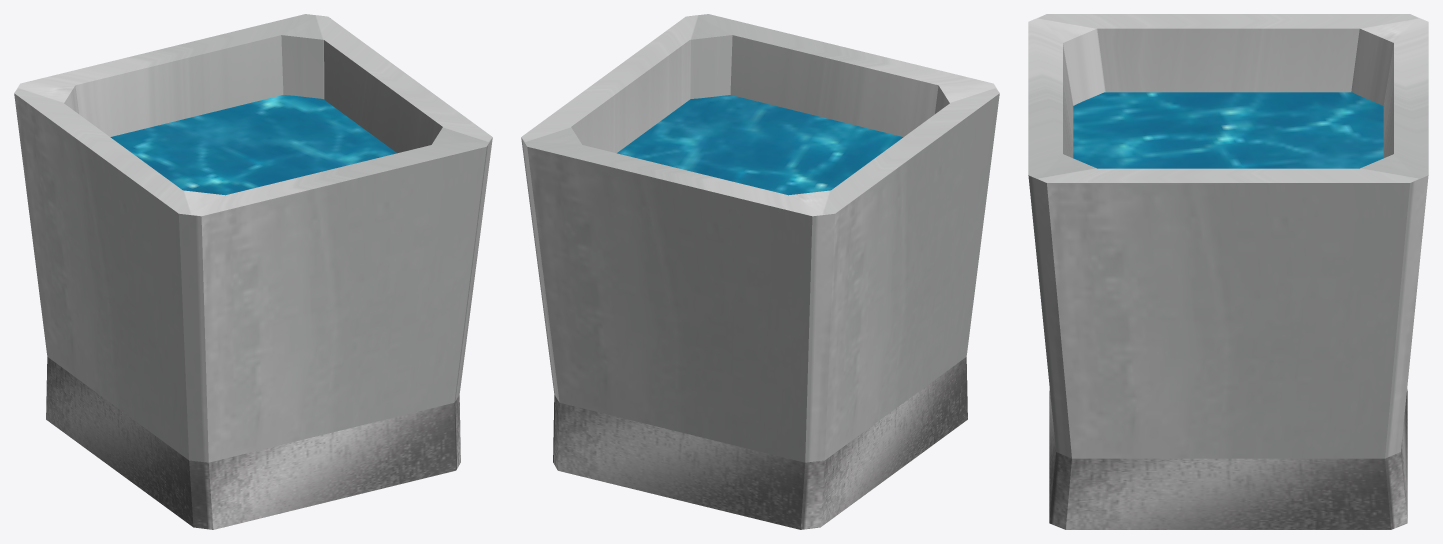
Rendered from drink_cup.FBX.
3 views of the same model, side by side, from view 1: azimuth 30°, elevation 25°; view 2: azimuth 150°, elevation 25°; view 3: azimuth 270°, elevation 25° (orthographic). The views are drawn at different scales.
Visible parts, largest first — view 1: Box001, Object002, Object001; view 2: Box001, Object002, Object001; view 3: Box001, Object002, Object001.
Boxes of the visible parts, x1,y1,x2,y2 form: Box001: [14, 14, 492, 462]; Object002: [46, 357, 460, 529]; Object001: [110, 95, 396, 195]; Box001: [521, 14, 999, 462]; Object002: [553, 357, 967, 529]; Object001: [617, 95, 903, 195]; Box001: [1028, 14, 1428, 458]; Object002: [1049, 389, 1407, 529]; Object001: [1073, 92, 1383, 168].
Bounding box in the file's own units: 23.8 × 23.6 × 23.81.
Materials: 3 (3 with a texture image).
